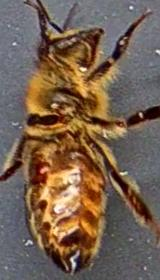varroa_mite: (24, 158, 58, 189)
